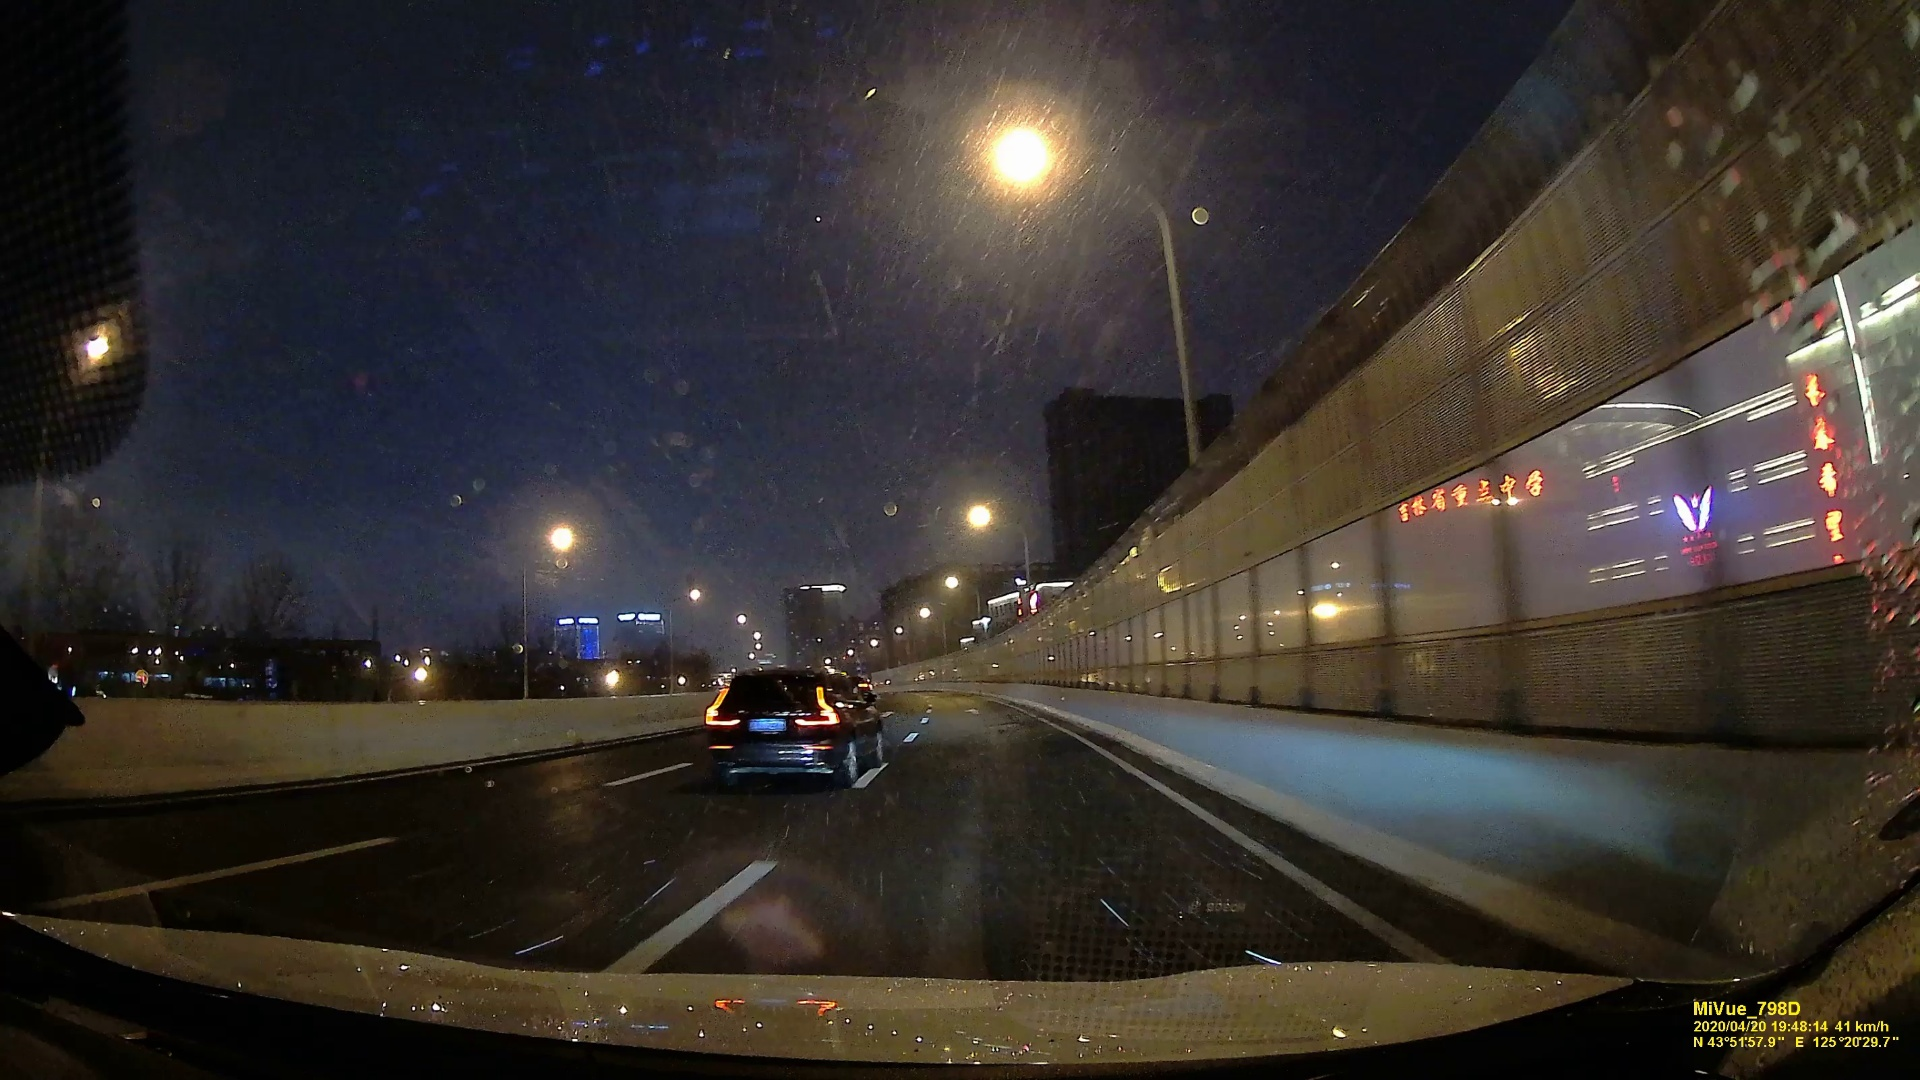vehicle: (698, 669, 881, 781)
